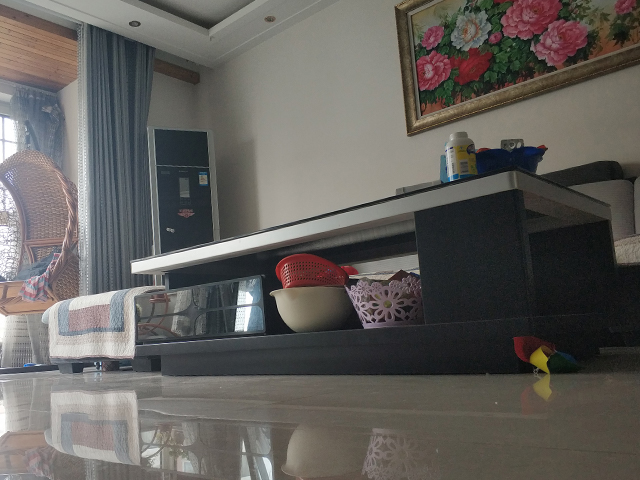curtain: (74, 22, 155, 284)
table: (38, 164, 623, 382)
